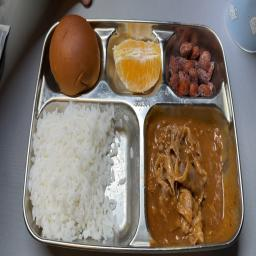100_bread: (44, 15, 102, 96)
100_nuts: (168, 39, 213, 95)
100_orange: (109, 34, 163, 94)
75_beef: (144, 105, 233, 248)
75_rice: (27, 100, 137, 242)
